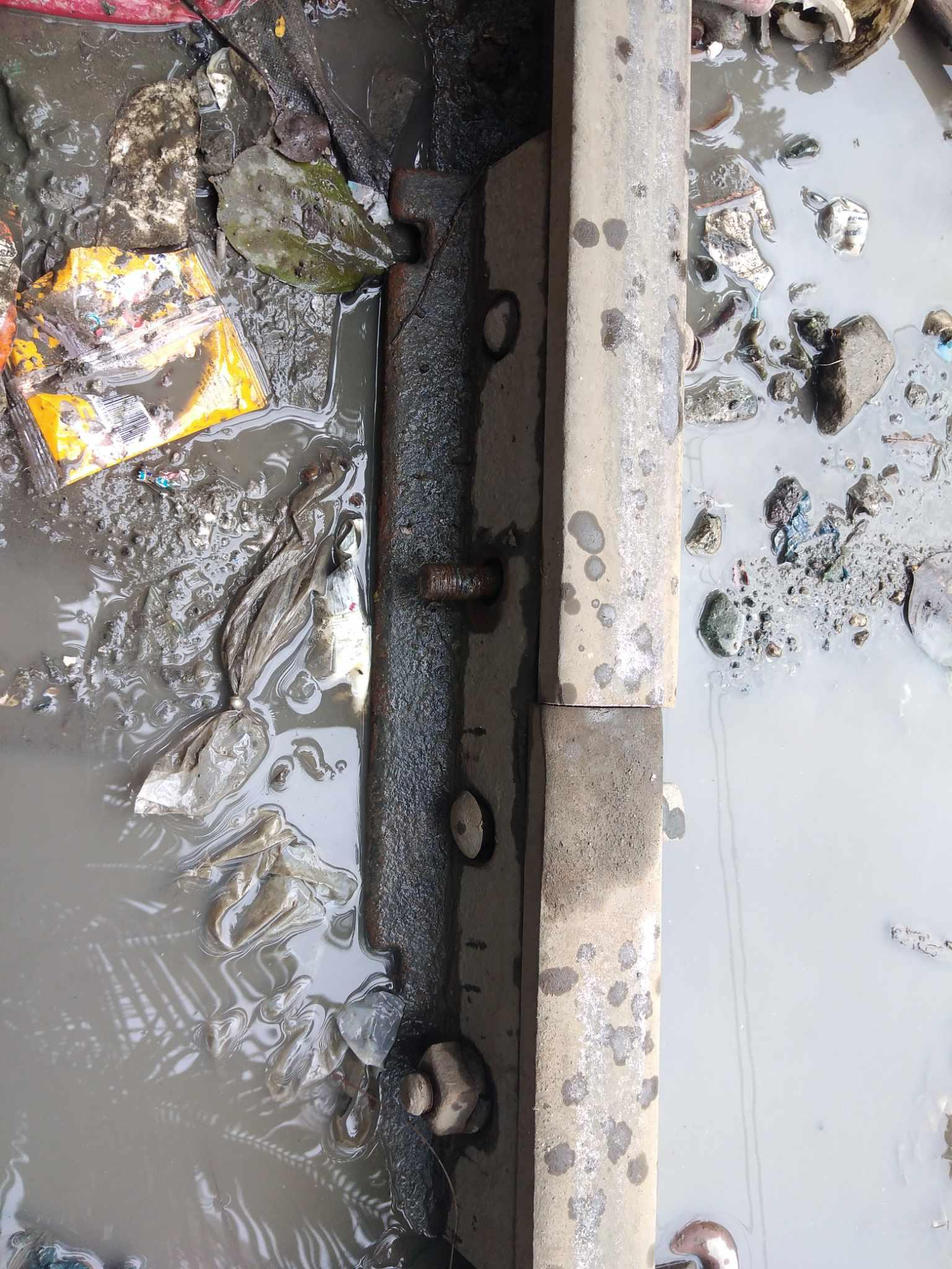railway-gap: (480, 592, 731, 819)
